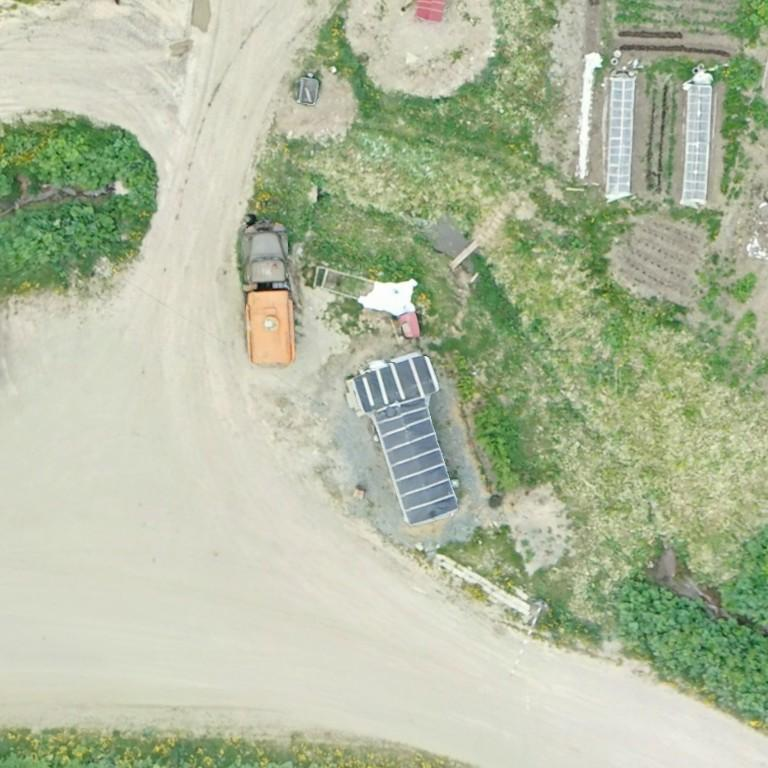hogweed: (0, 130, 156, 280), (614, 576, 767, 725), (720, 525, 767, 626)
